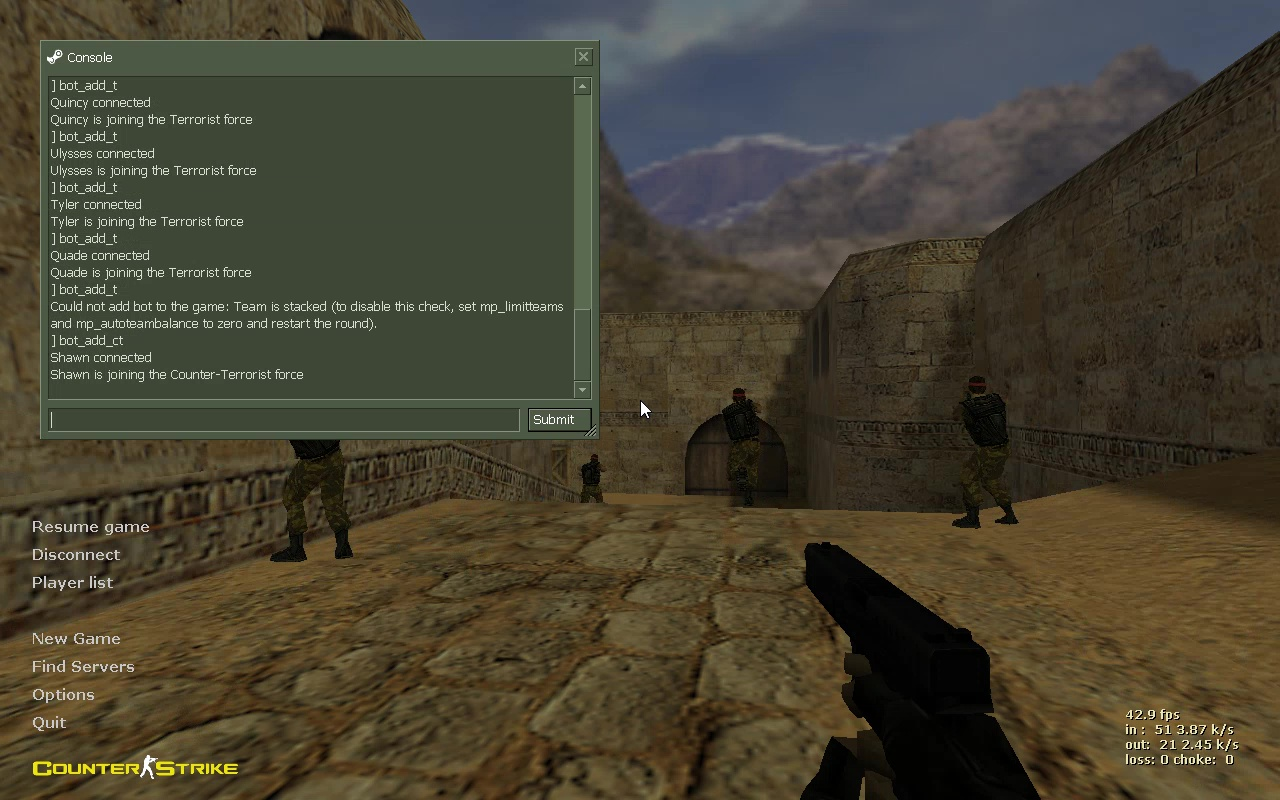terr1: (950, 378, 1017, 528), (720, 390, 761, 507), (576, 454, 609, 506)
